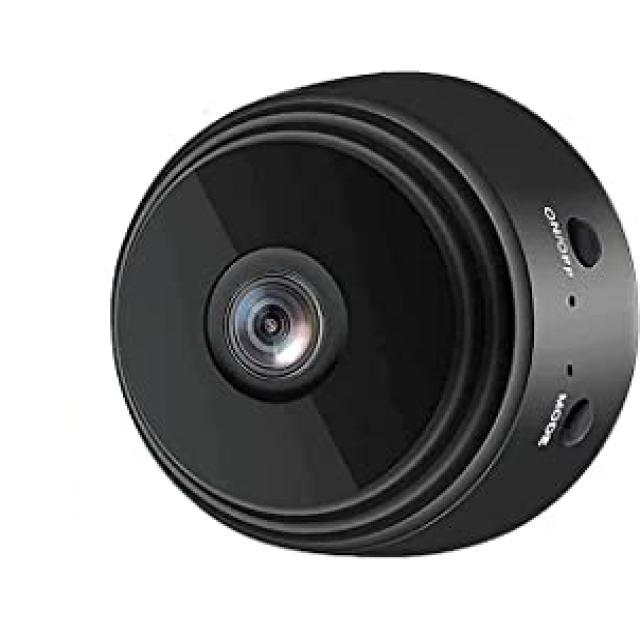hidden camera: (75, 107, 468, 550)
